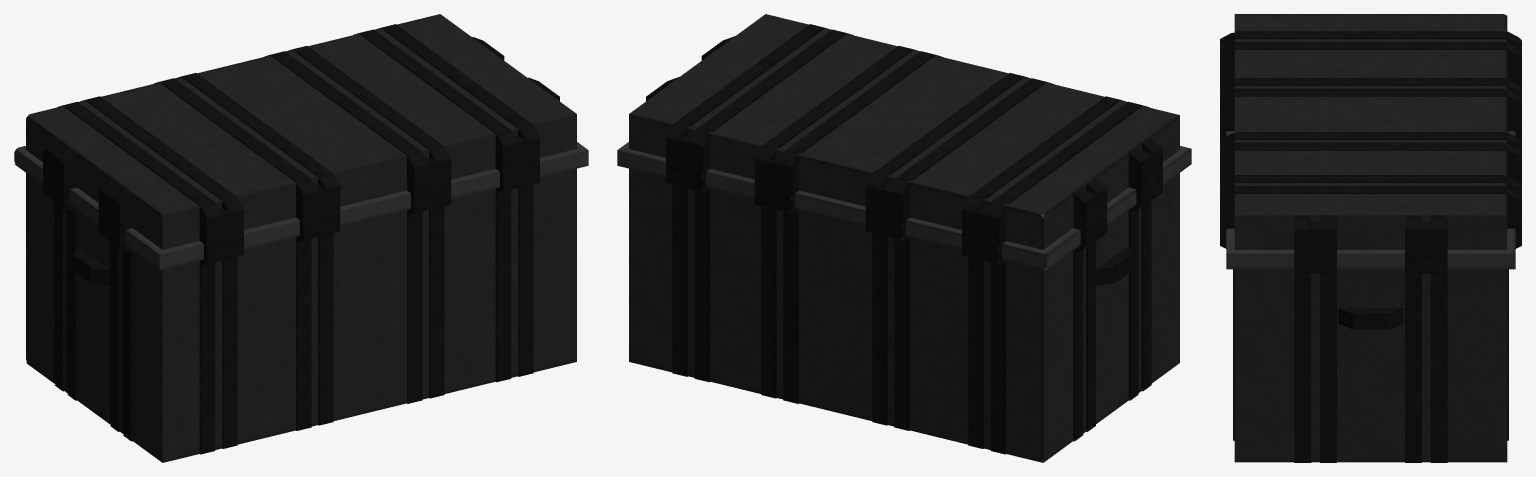
Rendered from ammo_crate_large.obj.
3 renders of one model, left to right at view 1: azimuth 30°, elevation 25°; view 2: azimuth 150°, elevation 25°; view 3: azimuth 270°, elevation 25°, orthographic.
Parts seen in each view (by area): view 1: nx, ny, pA, pD, pB, pz, pC, pG, pF, pE, oM, oN (+16 smaller); view 2: nx, ny, pN, pJ, pL, pH, pO, pI, pM, pK, oP, oN (+20 smaller); view 3: nx, ny, pP, pR, pQ, pS, oP, oO, oS, oR, oL, oN (+19 smaller).
Boxes of the visible parts, x1,y1,x2,y2 form: nx: (26, 14, 576, 462); ny: (14, 142, 588, 270); pA: (495, 188, 511, 382); pD: (199, 261, 215, 454); pB: (407, 210, 422, 403); pz: (518, 184, 533, 376); pC: (429, 206, 444, 398); pG: (318, 233, 333, 425); pF: (296, 238, 311, 430); pE: (222, 257, 237, 448); oM: (360, 29, 509, 136); oN: (272, 51, 421, 157); nx: (629, 14, 1179, 462); ny: (617, 142, 1191, 270); pN: (694, 188, 710, 382); pJ: (990, 262, 1006, 454); pL: (783, 211, 798, 403); pH: (894, 238, 909, 430); pO: (672, 184, 687, 376); pI: (872, 233, 887, 425); pM: (761, 206, 776, 398); pK: (968, 257, 983, 448); oP: (992, 101, 1142, 219); oN: (784, 51, 935, 168); nx: (1234, 14, 1507, 462); ny: (1226, 131, 1515, 269); pP: (1430, 275, 1447, 462); pR: (1294, 275, 1311, 462); pQ: (1405, 275, 1421, 462); pS: (1320, 275, 1336, 462); oP: (1234, 31, 1507, 39); oO: (1234, 142, 1507, 150); oS: (1234, 88, 1507, 96); oR: (1234, 78, 1507, 85); oL: (1234, 186, 1507, 193); oN: (1234, 132, 1507, 139).
Bounding box in the file's own units: 1.86 × 1 × 1.11.
1 material, 1 textured.
